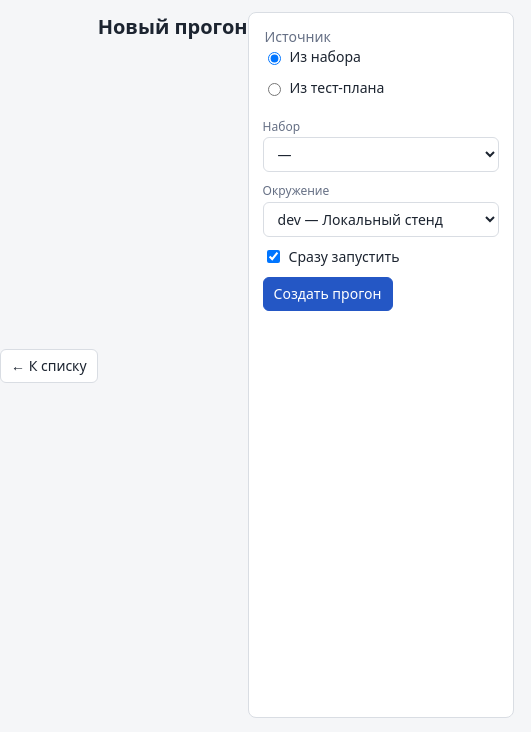
Scenario: без источника запрос не уходит
The width and height of the screenshot is (531, 732).
Click the button "Создать прогон": (328, 294) [263, 277, 392, 311]
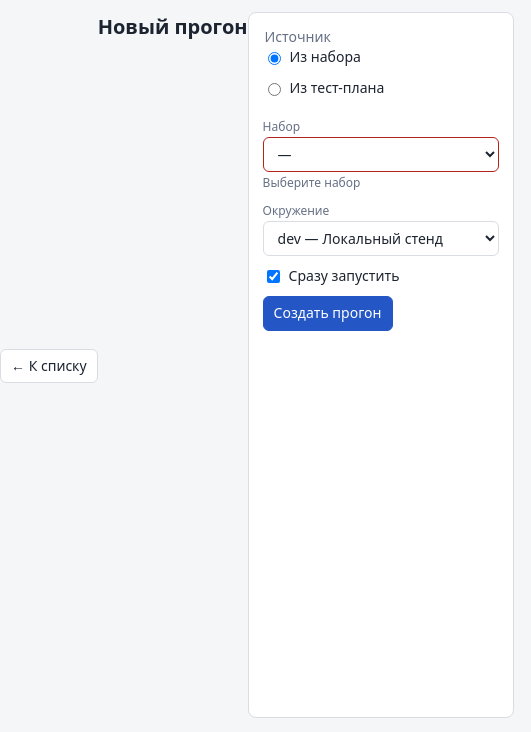
Expected: the text "Выберите набор" is shown, [263, 174, 360, 191]
